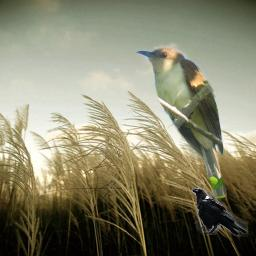Crow: (192, 186, 248, 237)
Cuckoo: (132, 45, 230, 206)
